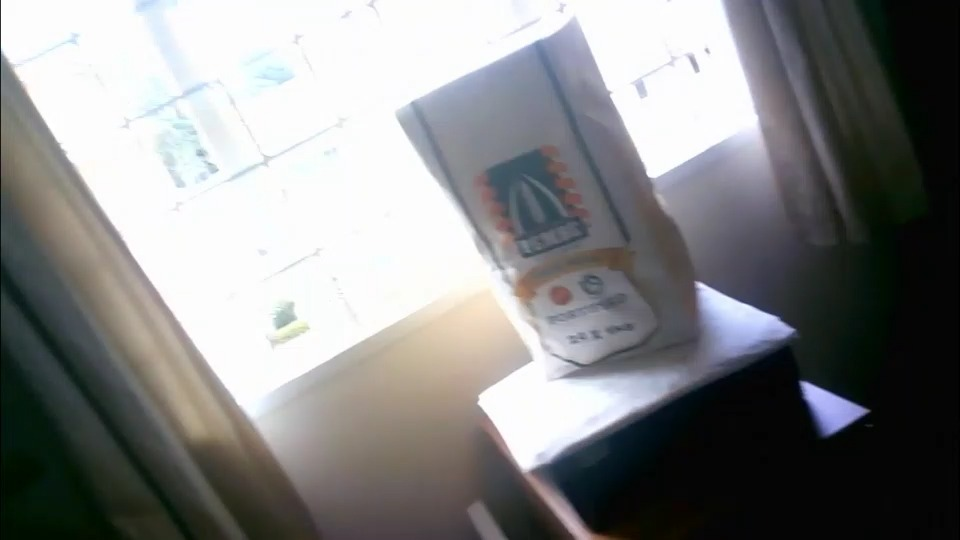maize_flour_green_label: (402, 14, 701, 376)
